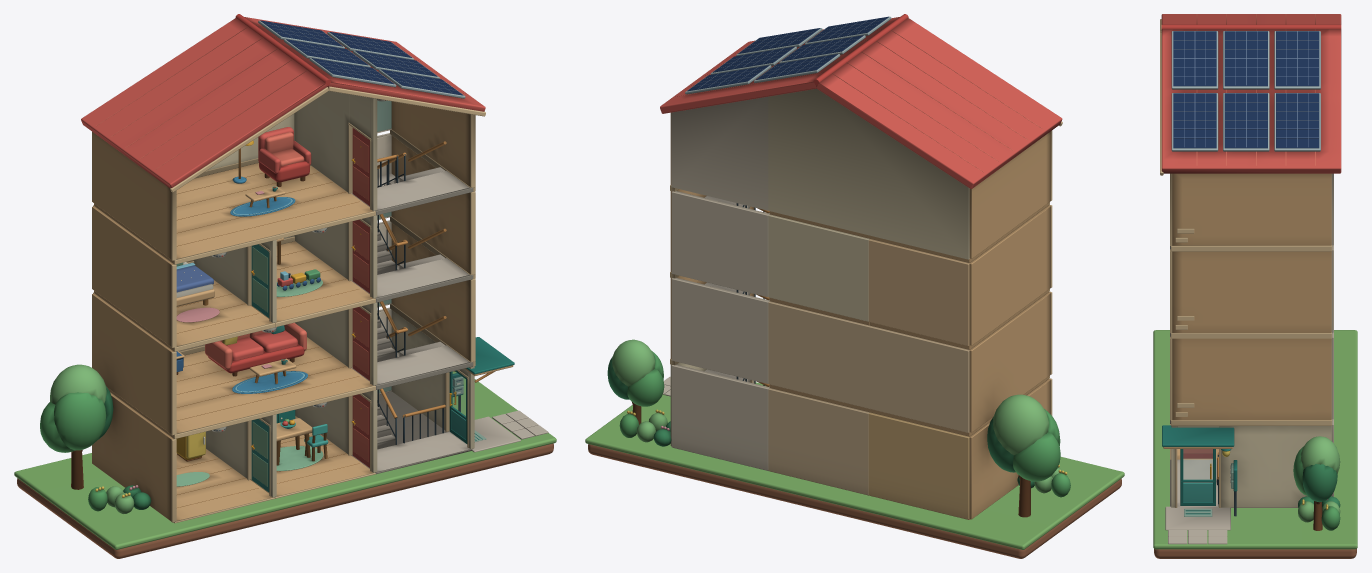
The model's file is rauchhaus-klein.glb.
The picture shows the model from 3 angles, left to right: view 1: azimuth 30°, elevation 25°; view 2: azimuth 150°, elevation 25°; view 3: azimuth 270°, elevation 25°; orthographic projection.
Parts seen in each view (by area): view 1: House structure surfaces, Garden surfaces, Living room surfaces, Attic reading flat surfaces, Breakfast room surfaces, Bedroom surfaces, hinge_i0 surfaces, hinge_i2 surfaces, hinge_d3 surfaces, hinge_d0 surfaces, hinge_d1 surfaces, hinge_d2 surfaces (+3 smaller); view 2: House structure surfaces, Garden surfaces; view 3: House structure surfaces, Garden surfaces, hinge_entry surfaces, hinge_entry glazing, hinge_d0 surfaces.
Boxes of the visible parts, left/top/right/bottom form: House structure surfaces: left=81, top=14, right=520, bottom=523; Garden surfaces: left=14, top=364, right=556, bottom=558; Living room surfaces: left=176, top=322, right=307, bottom=393; Attic reading flat surfaces: left=230, top=127, right=311, bottom=216; Breakfast room surfaces: left=276, top=410, right=328, bottom=471; Bedroom surfaces: left=176, top=262, right=219, bottom=322; hinge_i0 surfaces: left=251, top=419, right=269, bottom=492; hinge_i2 surfaces: left=251, top=244, right=269, bottom=317; hinge_d3 surfaces: left=351, top=128, right=369, bottom=206; hinge_d0 surfaces: left=351, top=394, right=369, bottom=467; hinge_d1 surfaces: left=351, top=307, right=369, bottom=380; hinge_d2 surfaces: left=351, top=219, right=369, bottom=293; House structure surfaces: left=660, top=14, right=1062, bottom=519; Garden surfaces: left=585, top=339, right=1124, bottom=558; House structure surfaces: left=1160, top=14, right=1341, bottom=530; Garden surfaces: left=1153, top=330, right=1357, bottom=558; hinge_entry surfaces: left=1180, top=449, right=1215, bottom=505; hinge_entry glazing: left=1184, top=449, right=1212, bottom=478; hinge_d0 surfaces: left=1183, top=449, right=1212, bottom=458.
Size of the model in its own units: 12.8 by 11.74 by 5.1.
